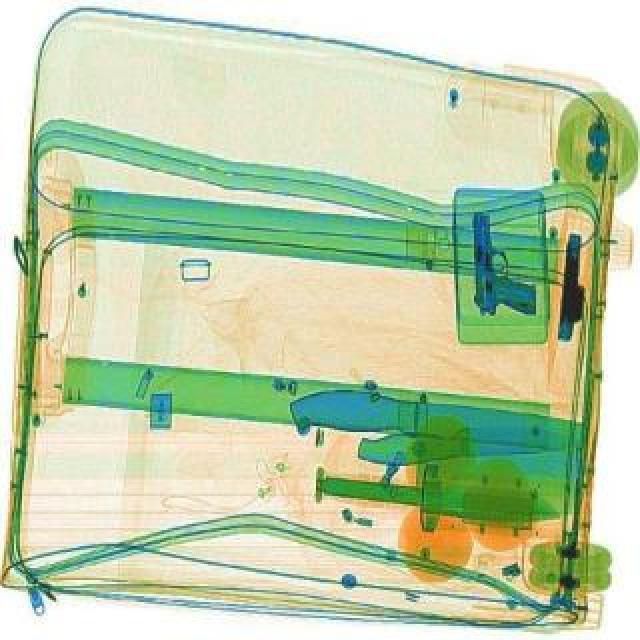gun: (468, 208, 536, 316), (556, 232, 592, 340)
knife: (272, 378, 588, 524), (316, 462, 562, 528), (356, 418, 582, 466)
